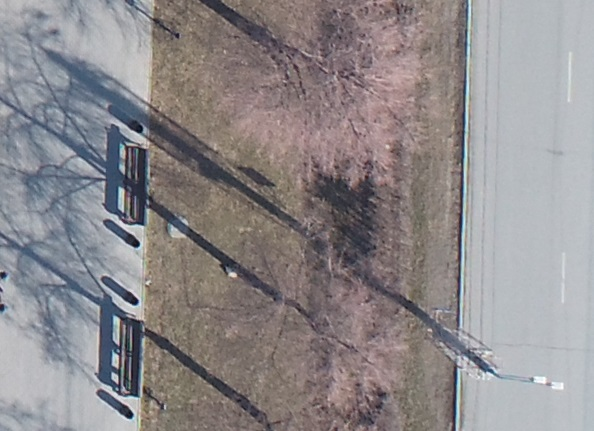opora: (369, 276, 567, 394)
